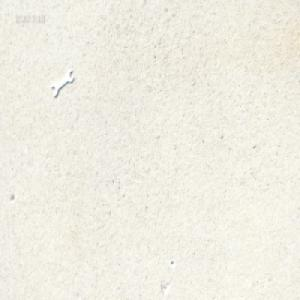Wrench: (50, 66, 73, 98)
